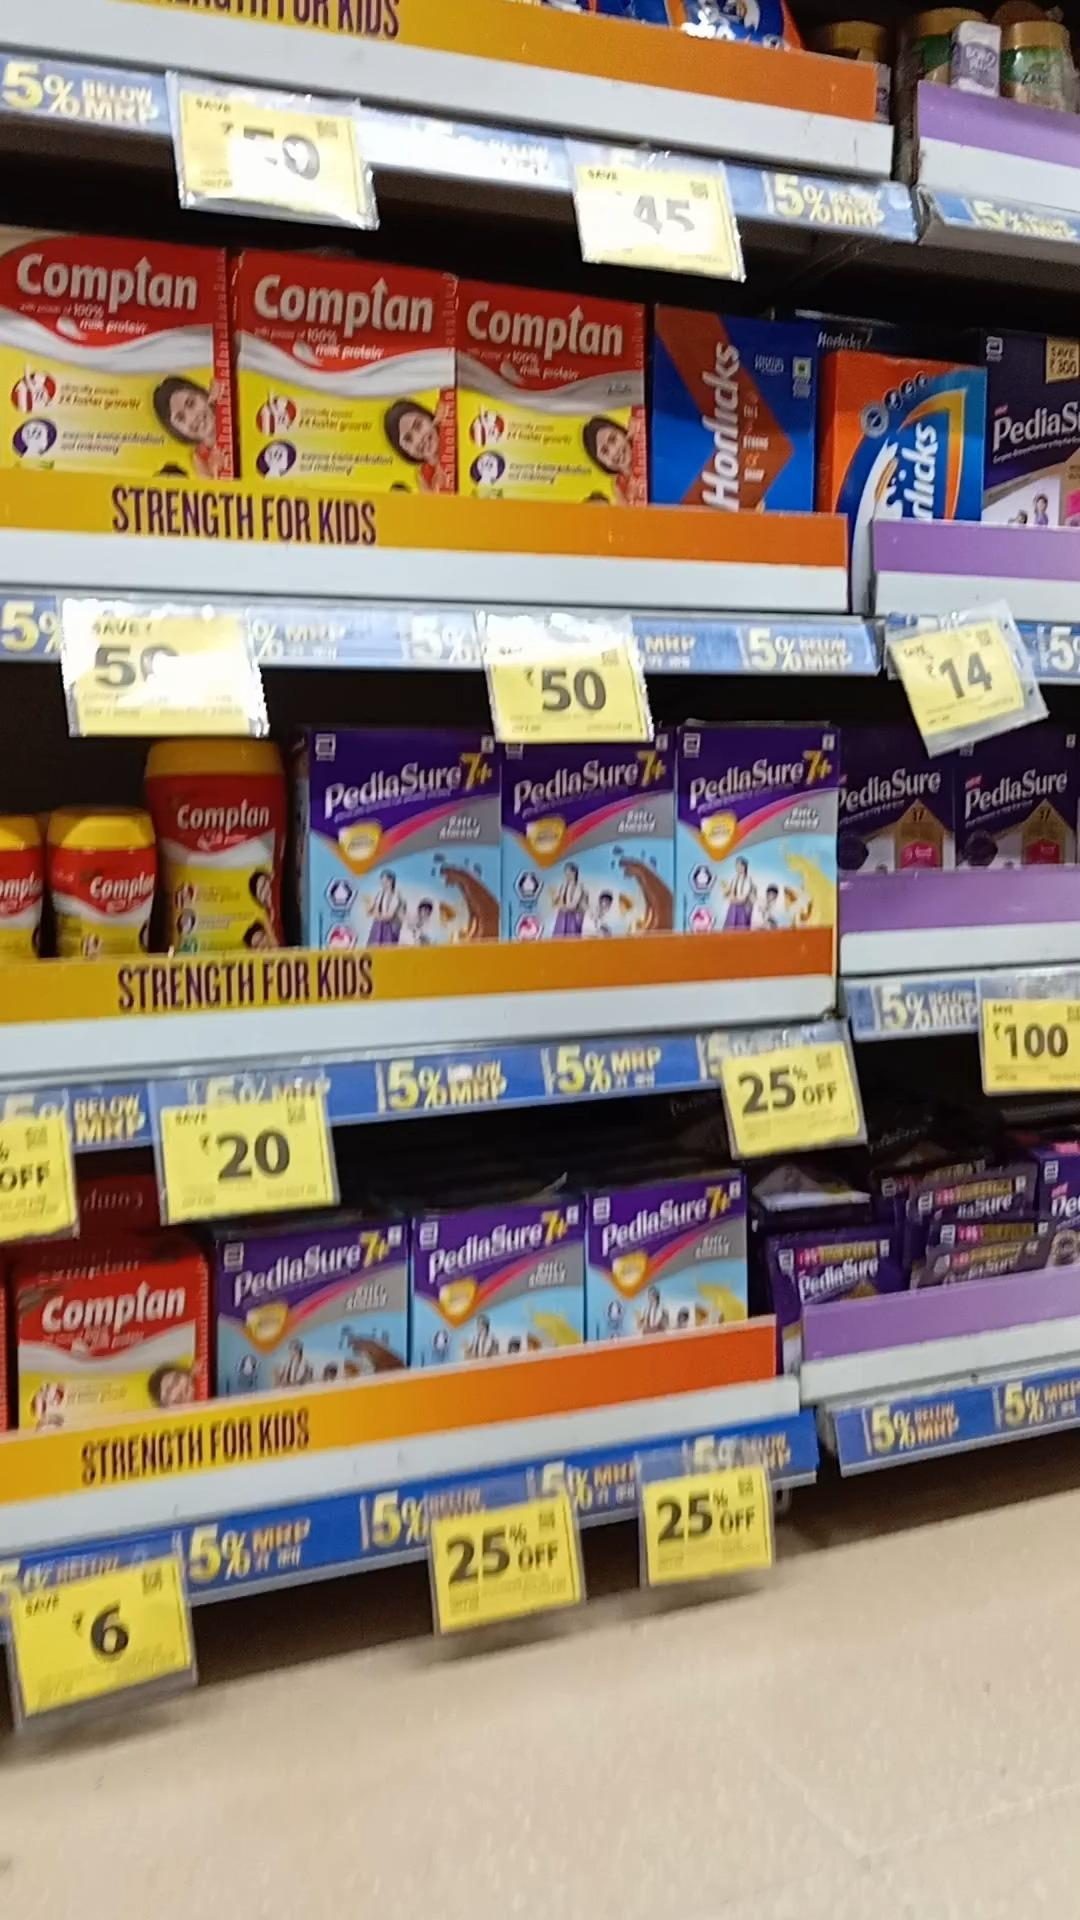COMPLAN_CHOCOLATE_200_GMS_JAR: (75, 812, 156, 959)
COMPLAN_CHOCOLATE_500_GMS_JAR: (166, 738, 286, 959)
COMPLAN_KESAR_BADAM_500_GMS_PACK: (0, 229, 232, 483)
HORLICK_CHOCOLATE_500_G_PACK: (657, 302, 814, 513)
HORLICK_CLASSIC_MALT_500_G_PACK: (836, 351, 982, 524)
PEDIASURE_7_PLUS_CHOCOLATE_400_G_PACK: (313, 727, 496, 942), (504, 741, 676, 936)
